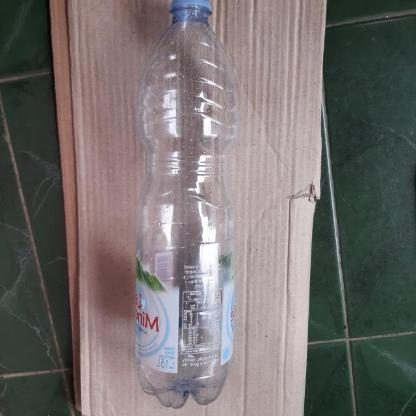Plastic Bottle: (132, 0, 242, 406)
